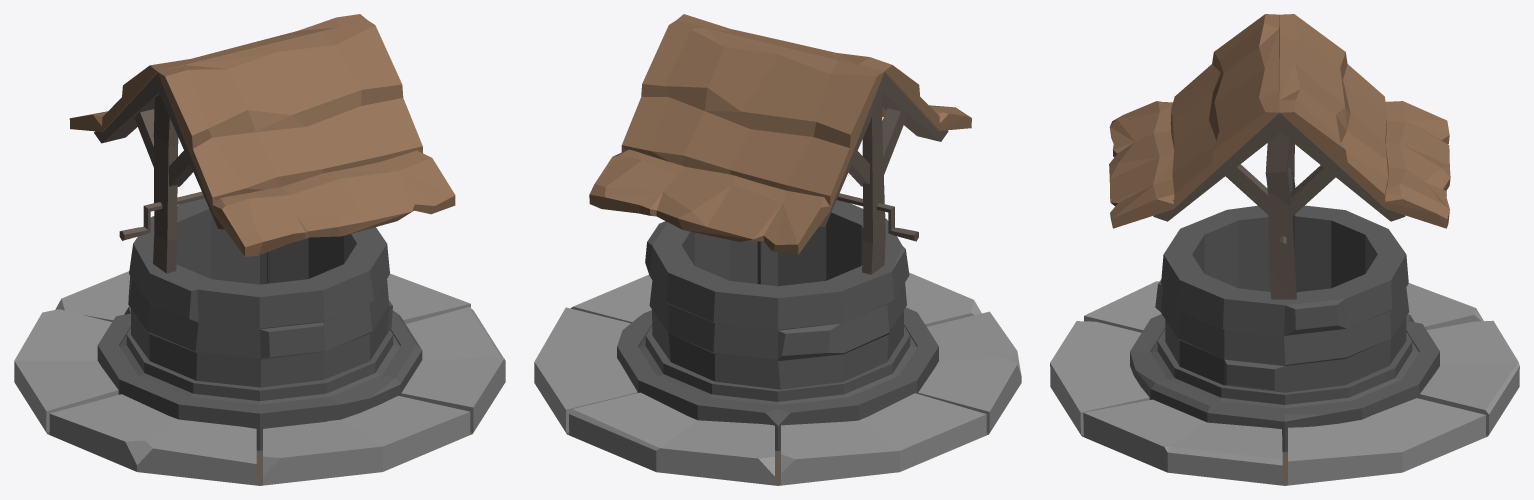
File: well.fbx
The picture shows the model from 3 angles, left to right: view 1: azimuth 30°, elevation 25°; view 2: azimuth 150°, elevation 25°; view 3: azimuth 270°, elevation 25°; orthographic projection. The views are drawn at different scales.
Parts seen in each view (by area): view 1: well; view 2: well; view 3: well.
Boxes of the visible parts, box(x1,y1,x2,y2) form: well: box(14, 14, 505, 485); well: box(534, 14, 1021, 485); well: box(1050, 14, 1519, 485).
Size of the model in its own units: 200 by 153 by 200.
